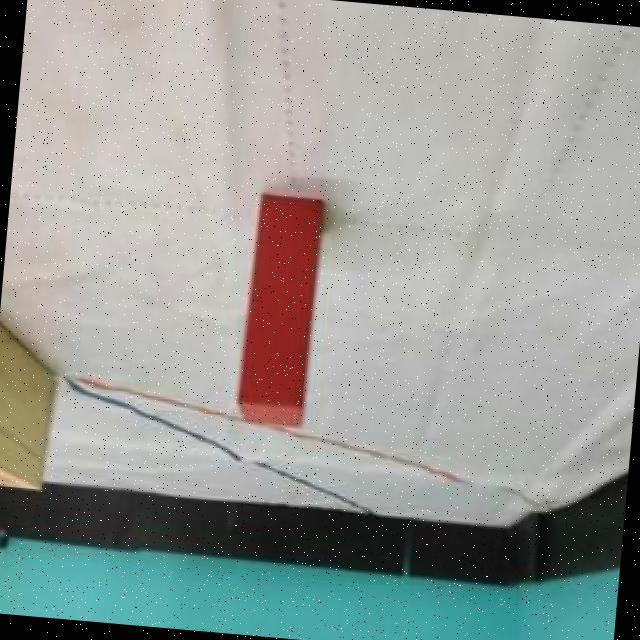redbox: (238, 192, 324, 432)
